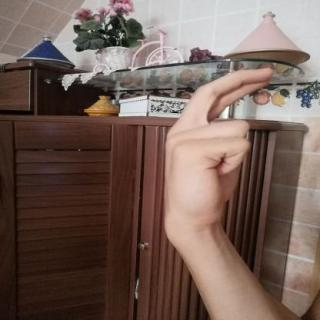ZAY: (148, 58, 287, 244)
